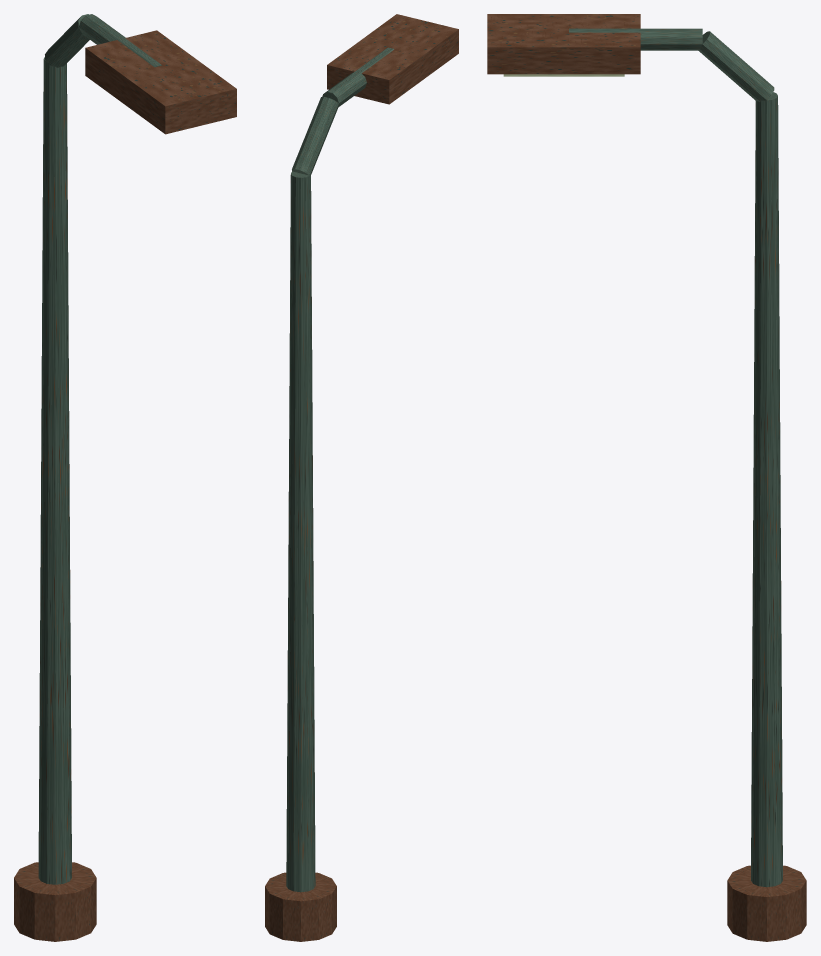
The model's file is StreetLamp.glb.
The picture shows the model from 3 angles, left to right: view 1: azimuth 30°, elevation 25°; view 2: azimuth 150°, elevation 25°; view 3: azimuth 270°, elevation 25°; orthographic projection. The views are drawn at different scales.
Visible parts, largest first — view 1: StreetLamp; view 2: StreetLamp; view 3: StreetLamp.
Part boxes in pixels (left/top/right/bottom): StreetLamp: left=14, top=14, right=236, bottom=941; StreetLamp: left=265, top=14, right=458, bottom=941; StreetLamp: left=487, top=14, right=806, bottom=941.
Size of the model in its own units: 0.32 by 3.99 by 1.29.
Materials: 3 (3 with a texture image).
